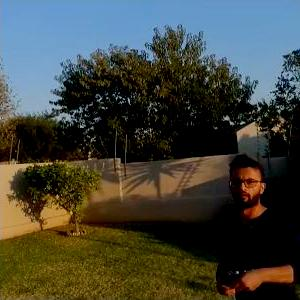follow: (216, 151, 299, 299)
